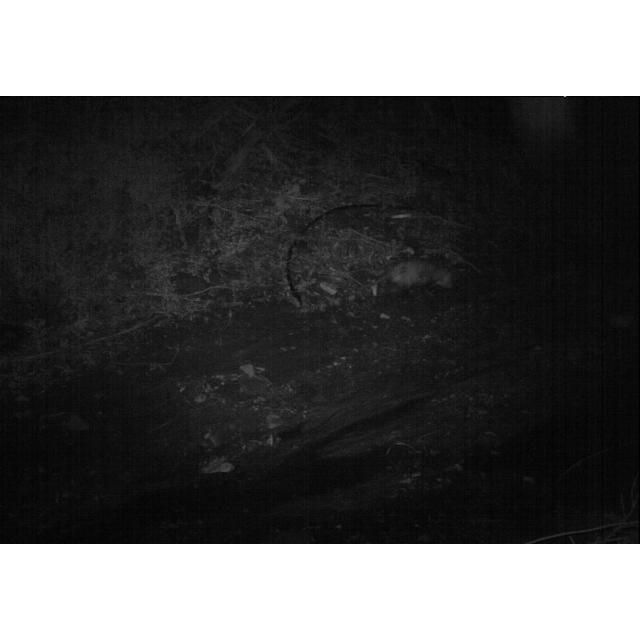animals: (360, 260, 454, 294)
